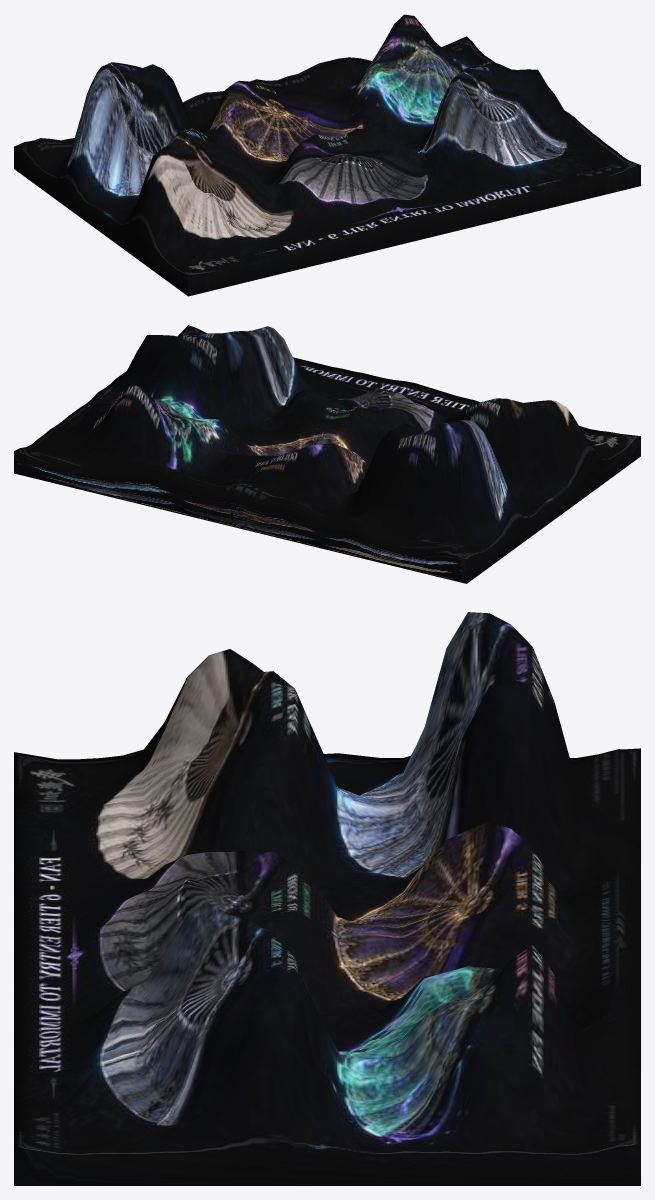
Rendered from ARSENAL_Fan_6Tier.glb.
The picture shows the model from 3 angles, top to bottom: view 1: azimuth 30°, elevation 25°; view 2: azimuth 150°, elevation 25°; view 3: azimuth 270°, elevation 25°; orthographic projection. The views are drawn at different scales.
Parts seen in each view (by area): view 1: ARSENAL_Fan_6Tier; view 2: ARSENAL_Fan_6Tier; view 3: ARSENAL_Fan_6Tier.
Boxes of the visible parts, x1=… form: ARSENAL_Fan_6Tier: x1=14, y1=14, x2=640, y2=296; ARSENAL_Fan_6Tier: x1=14, y1=325, x2=640, y2=583; ARSENAL_Fan_6Tier: x1=14, y1=612, x2=640, y2=1185.
Size of the model in its own units: 2 by 0.51 by 1.33.
1 material, 1 textured.
